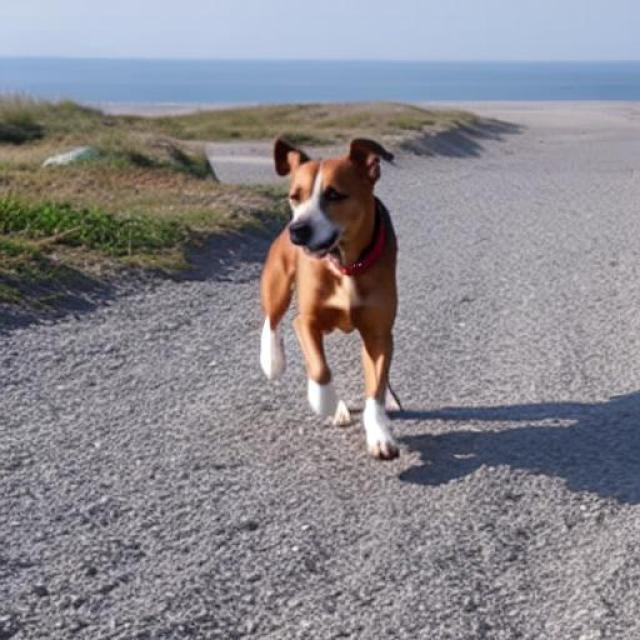Dog: (259, 136, 399, 459)
